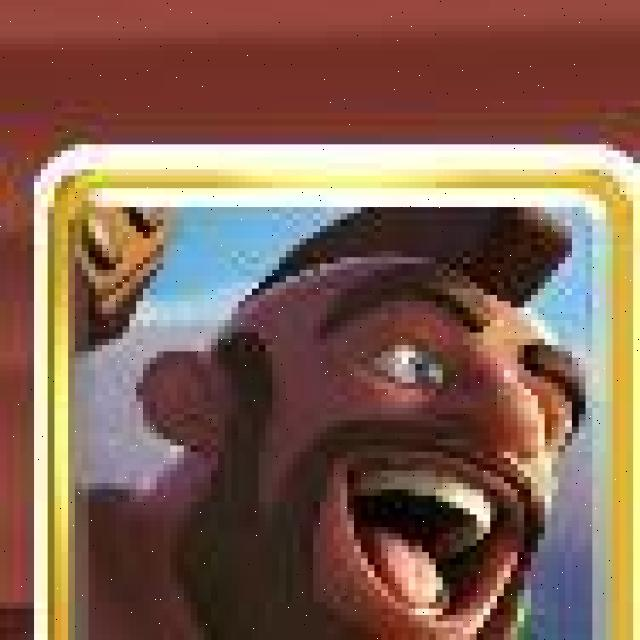Hog_Rider: (32, 142, 640, 640)
